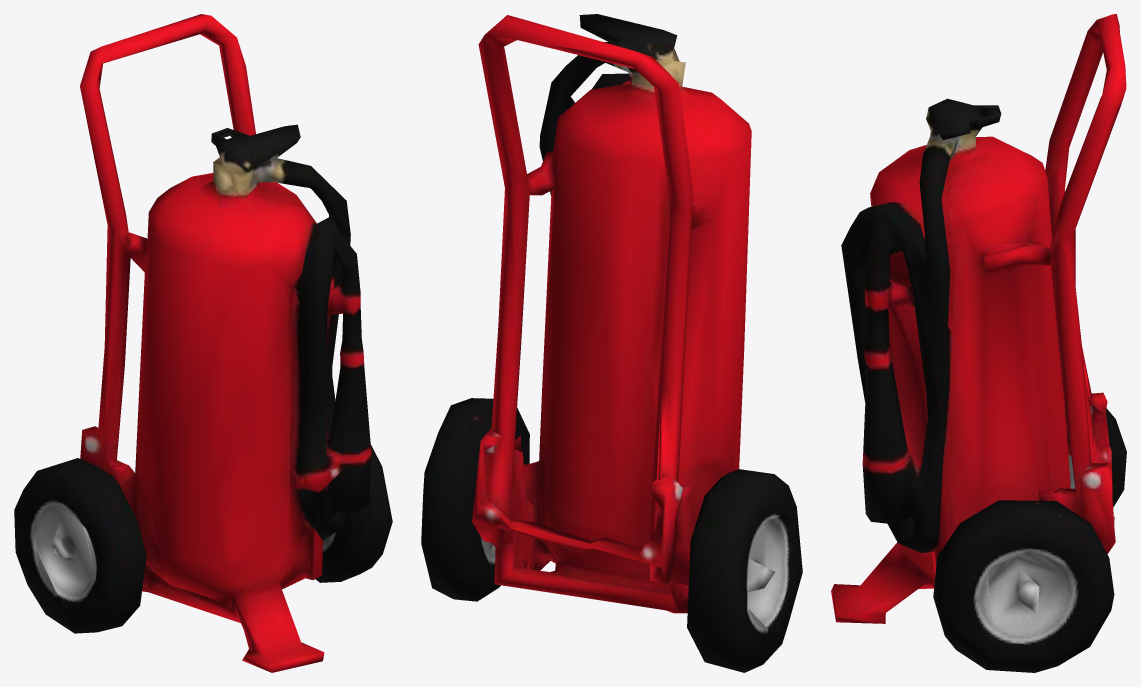
Rendered from trolley.glb.
3 renders of one model, left to right at view 1: azimuth 30°, elevation 25°; view 2: azimuth 150°, elevation 25°; view 3: azimuth 270°, elevation 25°, orthographic. The views are drawn at different scales.
Parts seen in each view (by area): view 1: body_trolley; view 2: body_trolley; view 3: body_trolley.
Boxes of the visible parts, left/top/right/bottom form: body_trolley: left=14, top=14, right=392, bottom=672; body_trolley: left=421, top=14, right=802, bottom=672; body_trolley: left=831, top=14, right=1126, bottom=672.
Size of the model in its own units: 0.8282 by 1.45 by 0.6834.
Materials: 1 (1 with a texture image).
